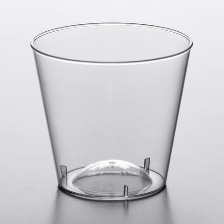glass: (25, 20, 197, 206)
